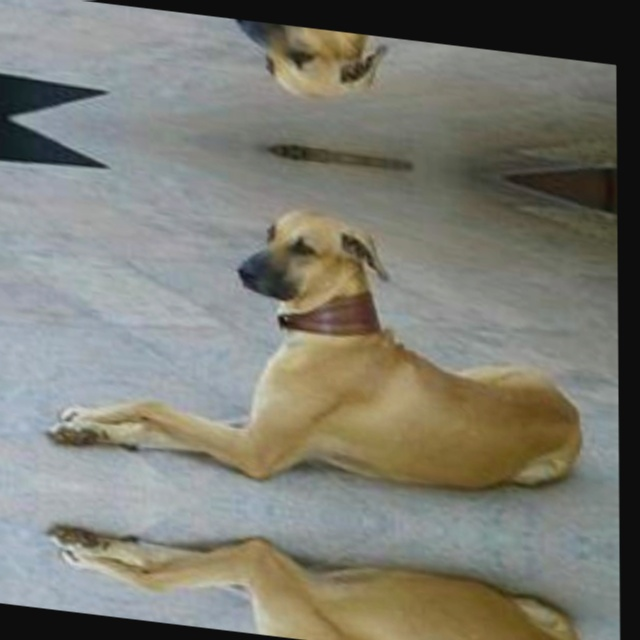dog: (1, 167, 597, 549), (4, 478, 599, 640), (1, 0, 595, 136)
